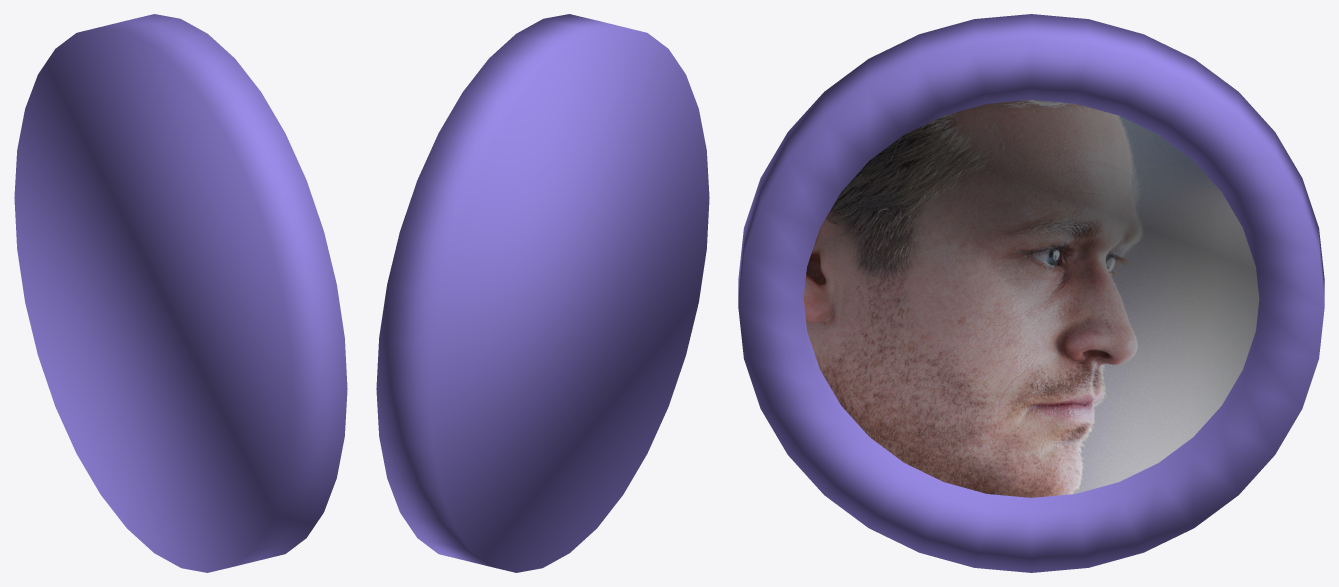
The picture shows the model from 3 angles, left to right: view 1: azimuth 30°, elevation 25°; view 2: azimuth 150°, elevation 25°; view 3: azimuth 270°, elevation 25°; orthographic projection. The views are drawn at different scales.
Visible parts, largest first — view 1: Circle; view 2: Circle; view 3: Circle.
Boxes of the visible parts, x1,y1,x2,y2 form: Circle: (14,14,347,572); Circle: (376,14,709,572); Circle: (738,14,1324,572).
Bounding box in the file's own units: 0.2224 × 2 × 2.
2 materials, 1 textured.
